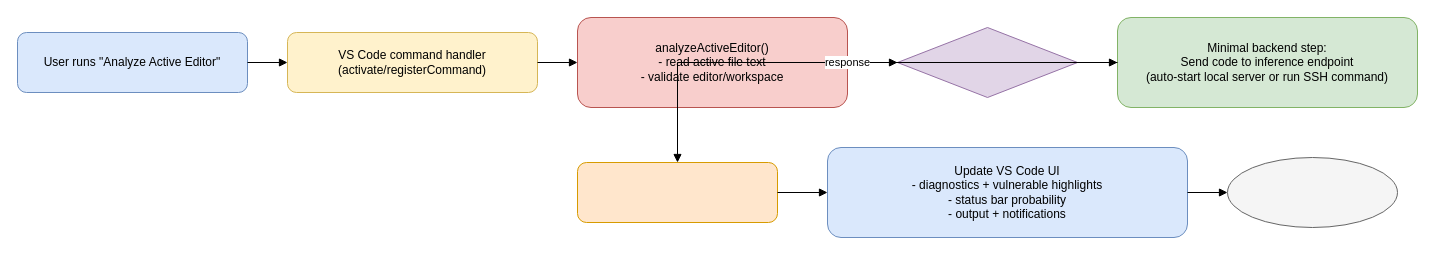
This 1435x255 diagram has some shape labels left out. The box of each missing label's shape, as (x1, y1, x2, y2) in pixels:
Analysis complete: (1226, 156, 1398, 228)
Parse JSON response: (576, 162, 778, 222)
Select mode (local server or SSH): (896, 26, 1078, 98)
